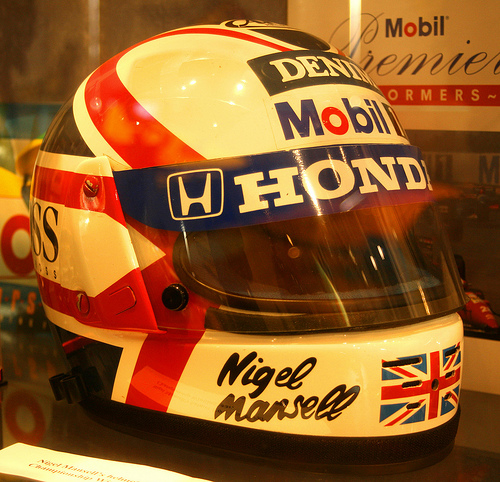helmet: (37, 46, 465, 411)
